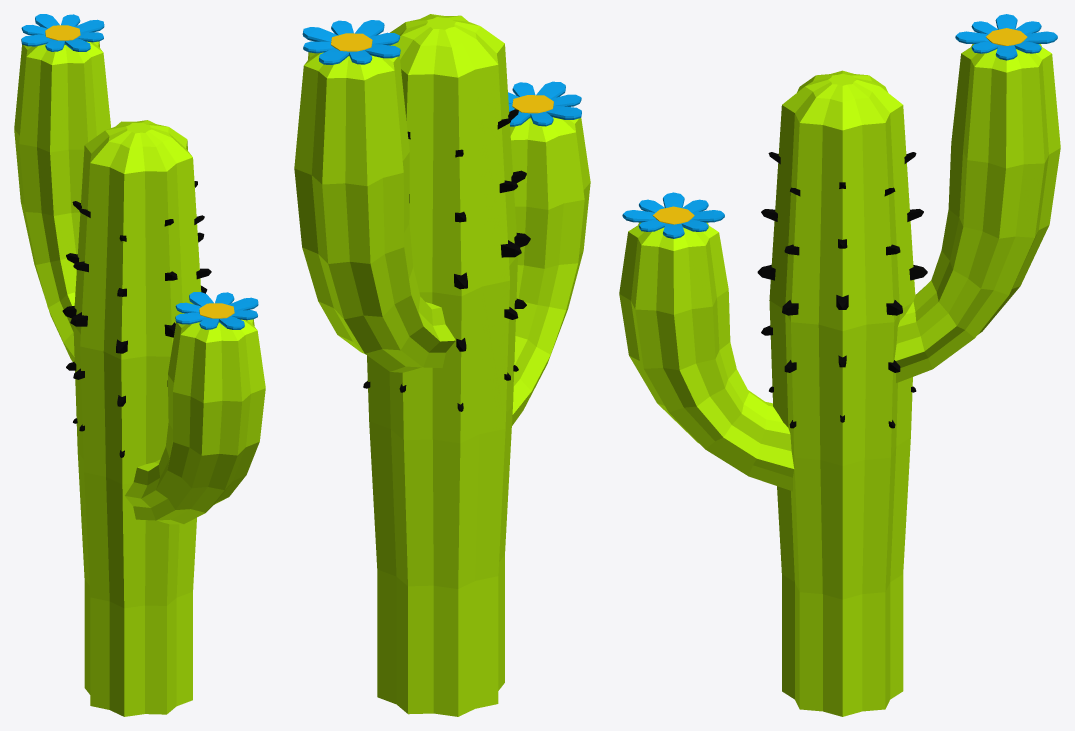
Rendered from Cardon01_02Brazos_Flor_Azul.fbx.
The picture shows the model from 3 angles, left to right: view 1: azimuth 30°, elevation 25°; view 2: azimuth 150°, elevation 25°; view 3: azimuth 270°, elevation 25°; orthographic projection. The views are drawn at different scales.
Parts seen in each view (by area): view 1: Cactus, Flor_Azul, Espinas; view 2: Cactus, Flor_Azul, Espinas; view 3: Cactus, Flor_Azul, Espinas.
Boxes of the visible parts, bbox=[...] form: Cactus: bbox=[14, 41, 265, 716]; Flor_Azul: bbox=[21, 14, 258, 329]; Espinas: bbox=[62, 181, 211, 457]; Cactus: bbox=[294, 14, 590, 716]; Flor_Azul: bbox=[302, 20, 581, 126]; Espinas: bbox=[363, 109, 530, 411]; Cactus: bbox=[619, 44, 1060, 716]; Flor_Azul: bbox=[622, 14, 1057, 238]; Espinas: bbox=[757, 152, 927, 428].
Bounding box in the file's own units: 53.18 × 226 × 138.
